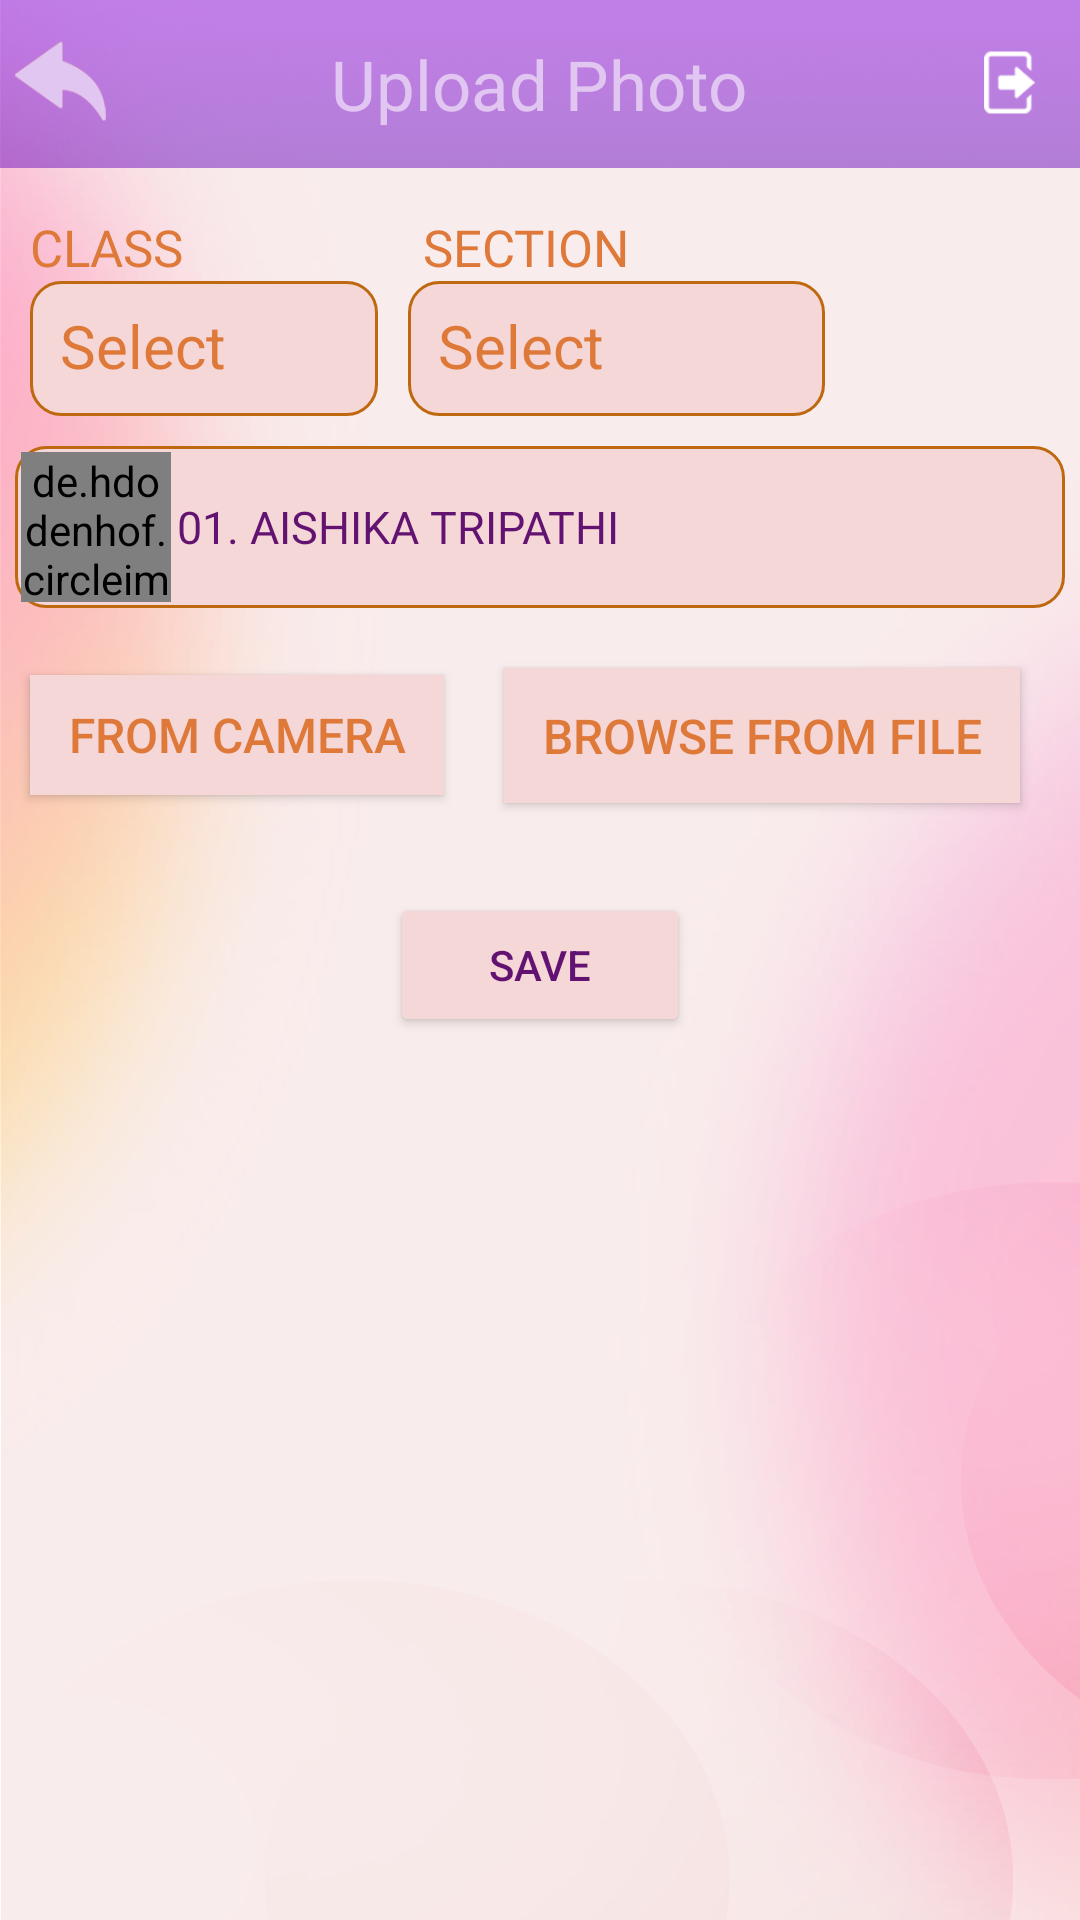

Screen size 1080 × 1920. Icon name, then its box in pixels as (x1, y1, x2, y2):
undo: (0, 41, 120, 144)
